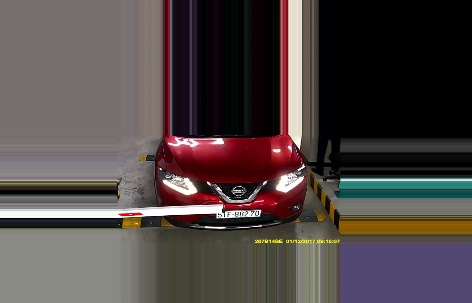plate: (215, 206, 259, 219)
